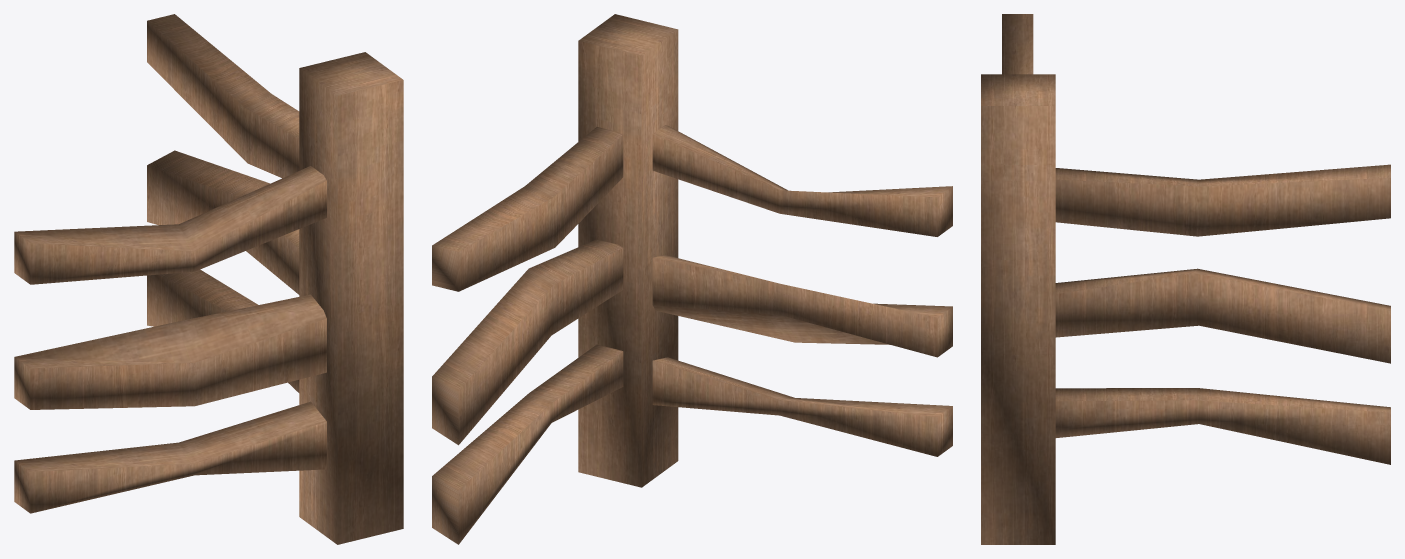
3 views of the same model, side by side, from view 1: azimuth 30°, elevation 25°; view 2: azimuth 150°, elevation 25°; view 3: azimuth 270°, elevation 25° (orthographic). The views are drawn at different scales.
Visible parts, largest first — view 1: Cube163_Wood_02001_0; view 2: Cube163_Wood_02001_0; view 3: Cube163_Wood_02001_0.
Boxes of the visible parts, bbox=[...] form: Cube163_Wood_02001_0: bbox=[14, 14, 403, 544]; Cube163_Wood_02001_0: bbox=[432, 14, 952, 544]; Cube163_Wood_02001_0: bbox=[981, 14, 1390, 544].
Size of the model in its own units: 1.1 by 1.3 by 1.1.
1 material, 1 textured.
